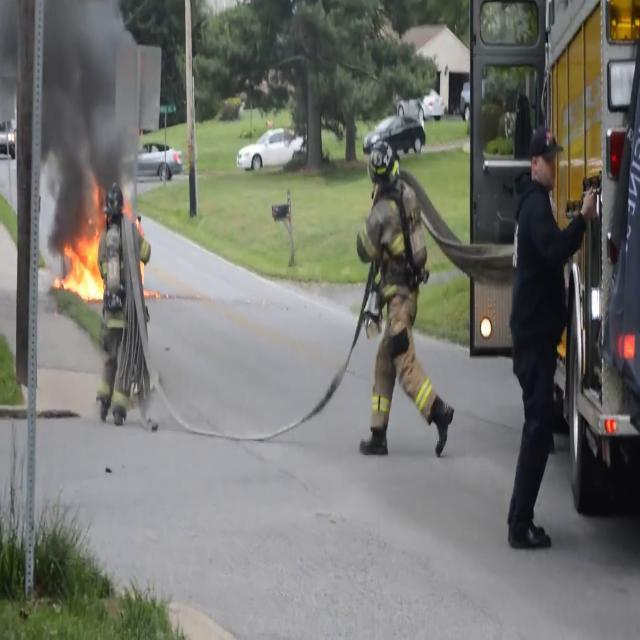Fire: (57, 221, 106, 305)
Smoke: (0, 0, 140, 220)
